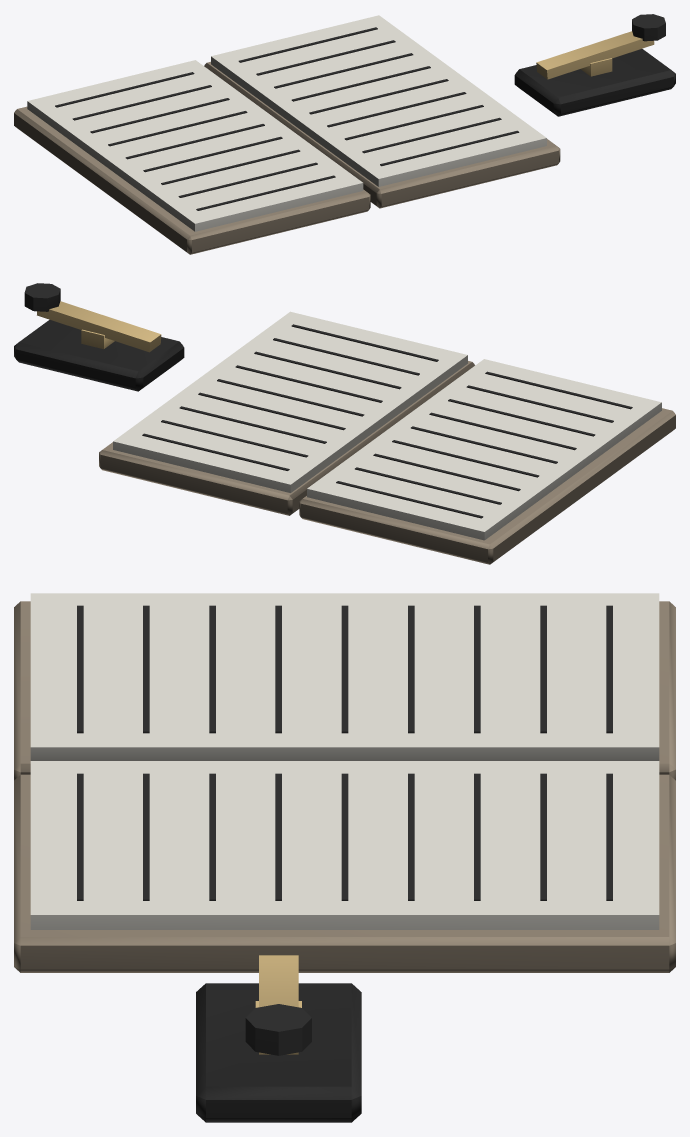
The model's file is logbook.glb.
The picture shows the model from 3 angles, top to bottom: view 1: azimuth 30°, elevation 25°; view 2: azimuth 150°, elevation 25°; view 3: azimuth 270°, elevation 25°; orthographic projection. The views are drawn at different scales.
Visible parts, largest first — view 1: static; view 2: static; view 3: static.
Part boxes in pixels (x1,y1,x2,y2): static: (14,14,675,254); static: (14,283,675,564); static: (14,593,675,1122).
Size of the model in its own units: 0.357 by 0.034 by 0.2.
